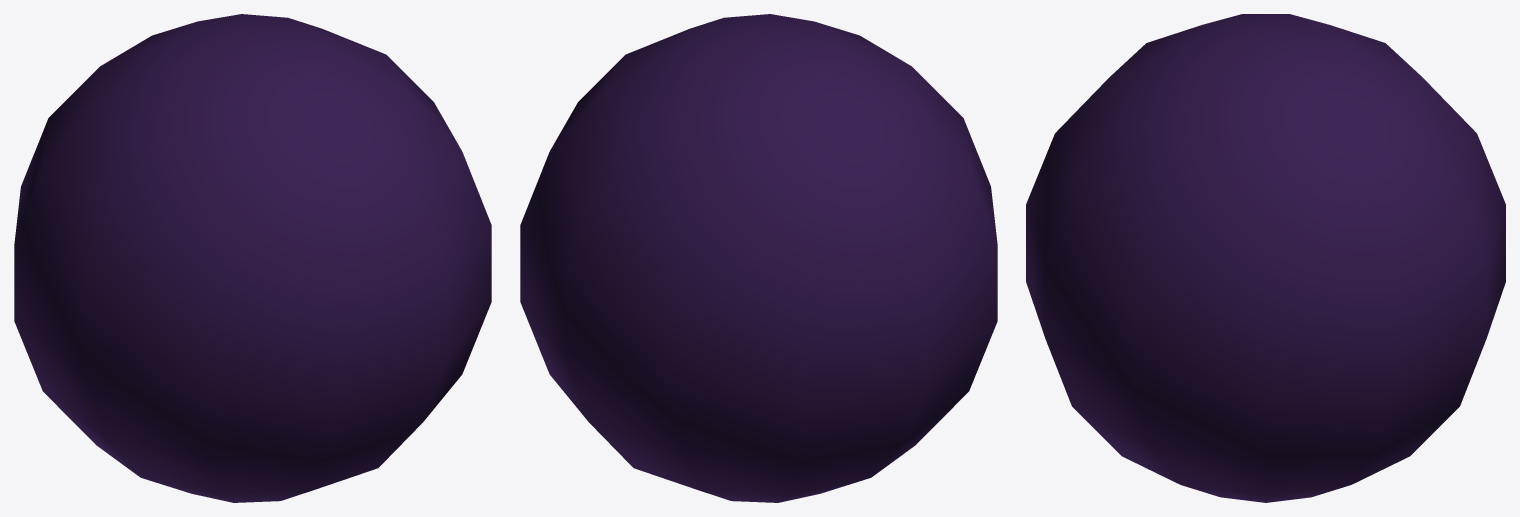
Rendered from shade_stage1.obj.
The picture shows the model from 3 angles, left to right: view 1: azimuth 30°, elevation 25°; view 2: azimuth 150°, elevation 25°; view 3: azimuth 270°, elevation 25°; orthographic projection.
Size of the model in its own units: 1.25 by 1.3 by 1.27.
